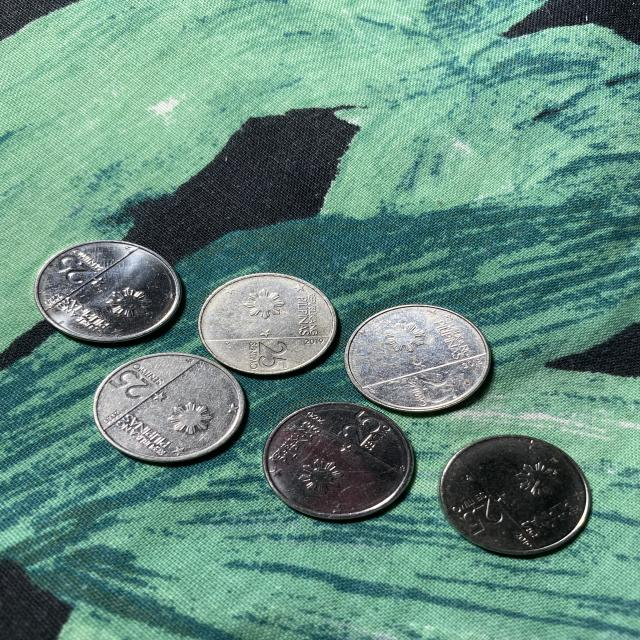25Cent_New_Front: (463, 502, 503, 536), (109, 370, 152, 400), (340, 412, 380, 441), (253, 340, 291, 369), (52, 256, 92, 283), (421, 372, 457, 400)
